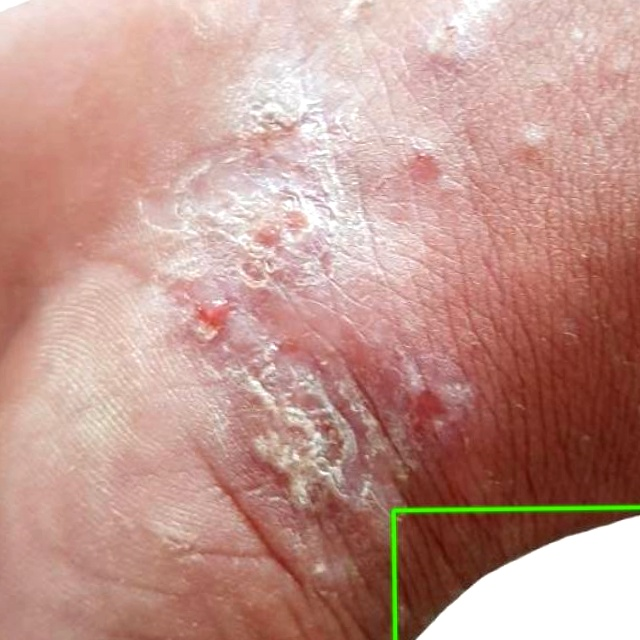Scabies: (393, 507, 639, 639)
